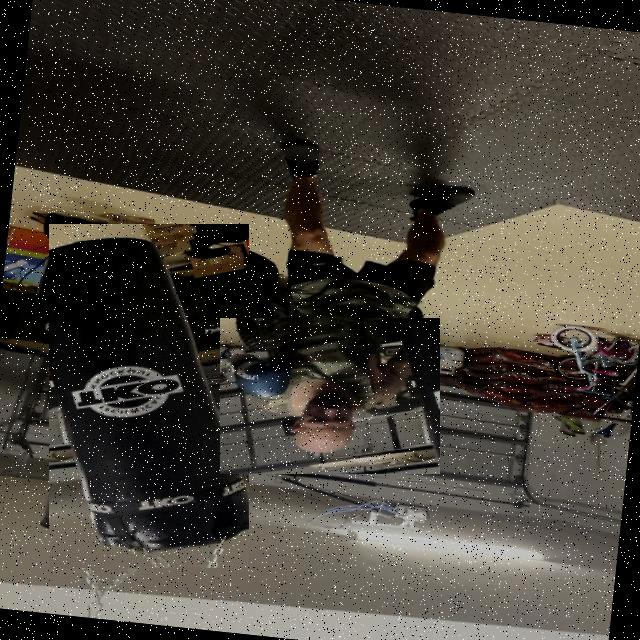punch: (220, 318, 440, 474)
